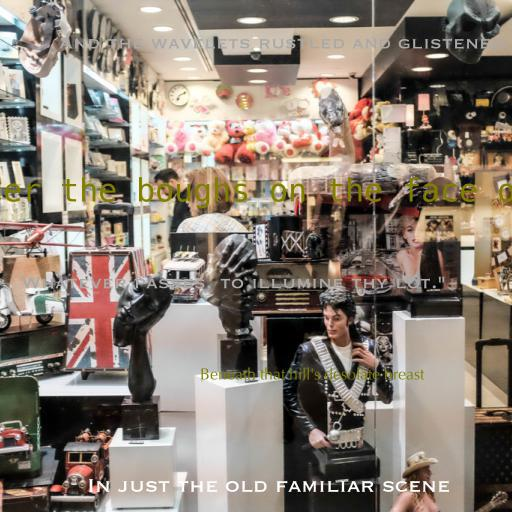Copperplate: (21, 276, 445, 292), (58, 37, 504, 49), (86, 479, 450, 493)
Menlo: (0, 177, 512, 209)
Optima: (200, 367, 424, 380)
